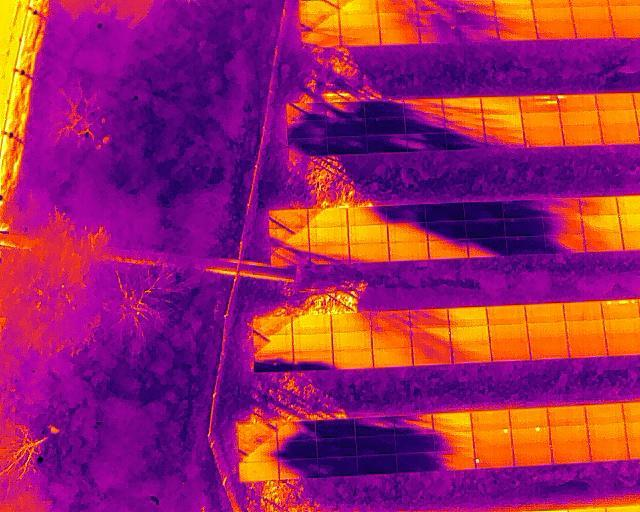Cell: (473, 428, 511, 450), (512, 426, 549, 448), (475, 449, 512, 469), (558, 94, 597, 111)
Cell-Multi: (602, 299, 640, 319), (519, 95, 557, 113)
No-Anomaly: (487, 303, 527, 324), (550, 424, 590, 445), (334, 349, 372, 371), (530, 340, 569, 361), (569, 335, 605, 357), (372, 348, 411, 368), (489, 323, 528, 343), (433, 412, 472, 432), (510, 407, 549, 427), (548, 406, 587, 426), (350, 243, 389, 263), (523, 127, 564, 146), (239, 461, 280, 480), (588, 423, 625, 444), (528, 320, 566, 340), (586, 403, 624, 423), (389, 242, 429, 261), (348, 224, 388, 243), (449, 306, 486, 326), (472, 408, 509, 428), (491, 343, 529, 362), (255, 334, 293, 353), (333, 331, 371, 350), (293, 313, 331, 332), (513, 447, 551, 466), (590, 443, 628, 462), (582, 215, 620, 234), (309, 208, 347, 227), (581, 196, 619, 215), (566, 318, 603, 337), (527, 303, 564, 322), (537, 21, 574, 40), (564, 126, 601, 145), (332, 313, 371, 331), (574, 21, 613, 39), (309, 227, 348, 245), (340, 29, 379, 47), (604, 318, 639, 338), (450, 326, 488, 344), (254, 316, 292, 334), (564, 301, 600, 320), (496, 8, 534, 26), (551, 445, 589, 463), (561, 109, 599, 127), (481, 96, 519, 114), (585, 234, 622, 252), (602, 125, 637, 144), (293, 333, 332, 350), (380, 29, 419, 46), (340, 12, 378, 29), (522, 111, 560, 128), (535, 5, 572, 22), (572, 6, 610, 22), (600, 109, 638, 125), (597, 93, 635, 109), (499, 26, 537, 42), (607, 338, 639, 356)
Shadowing: (271, 244, 310, 267), (238, 422, 278, 443), (452, 342, 490, 364), (435, 431, 473, 453), (294, 349, 333, 370), (372, 327, 411, 348), (411, 326, 450, 347), (412, 345, 452, 365), (277, 439, 317, 459), (544, 234, 584, 254), (327, 136, 367, 156), (317, 457, 357, 477), (395, 453, 435, 473), (428, 220, 466, 241), (288, 137, 326, 158), (254, 352, 293, 372), (311, 246, 350, 266), (388, 223, 427, 243), (270, 208, 309, 228), (327, 117, 366, 137), (406, 114, 445, 134), (357, 455, 396, 475), (371, 310, 409, 330), (239, 443, 279, 462), (317, 438, 357, 457), (357, 436, 395, 456), (468, 237, 506, 257), (347, 206, 387, 225), (367, 134, 407, 153), (446, 131, 486, 150), (279, 459, 319, 478), (436, 452, 475, 471), (396, 434, 435, 453), (316, 420, 355, 439), (430, 240, 469, 259), (271, 226, 310, 245), (287, 118, 326, 137), (366, 116, 405, 135), (301, 28, 340, 47), (409, 309, 447, 328), (278, 422, 316, 441), (506, 236, 544, 255), (467, 219, 505, 238), (505, 217, 543, 236), (388, 205, 426, 224), (407, 133, 445, 152), (356, 418, 395, 436), (544, 216, 583, 234), (484, 112, 523, 130), (395, 416, 433, 434), (426, 203, 464, 221), (465, 203, 503, 221), (486, 129, 524, 147), (445, 112, 483, 130), (379, 12, 419, 29), (287, 102, 327, 119), (443, 96, 483, 113), (420, 27, 460, 44), (300, 12, 339, 29), (365, 100, 404, 117), (404, 98, 443, 115), (327, 101, 365, 118), (420, 12, 459, 28), (504, 202, 543, 218), (543, 201, 581, 217), (460, 26, 498, 42), (459, 11, 496, 26)
